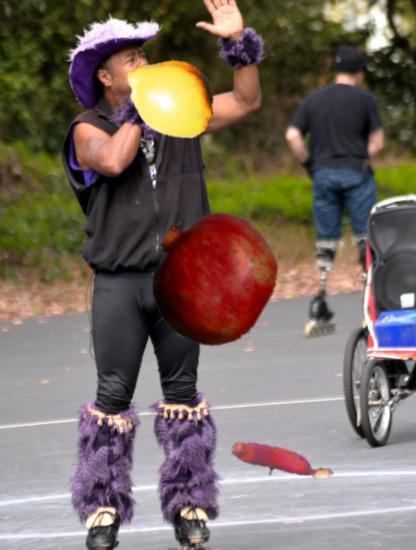Banana: (228, 410, 335, 517)
Pomegranate: (144, 210, 279, 345)
Quince: (122, 48, 217, 143)
